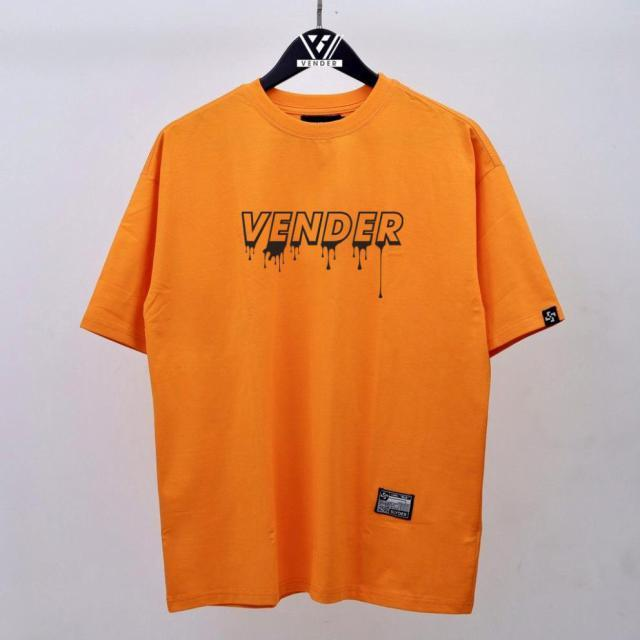Shirt: (79, 68, 571, 608)
